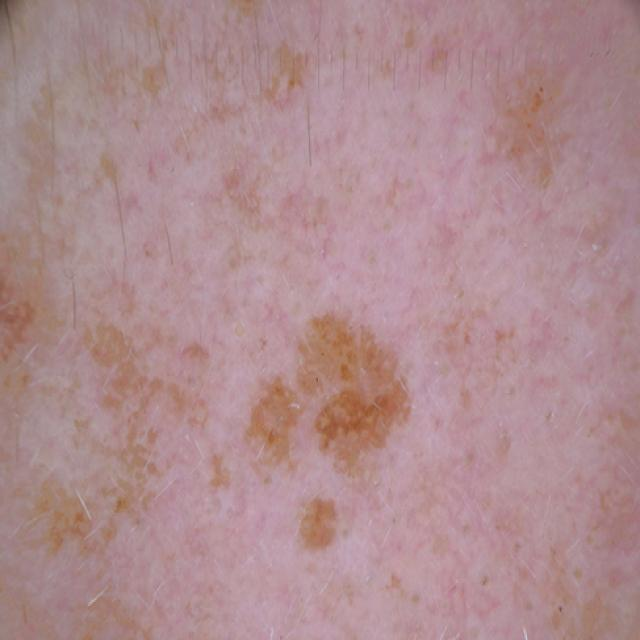Keratosis: (261, 266, 459, 612), (0, 243, 151, 503), (262, 24, 355, 229), (477, 95, 585, 249), (44, 552, 132, 640)
